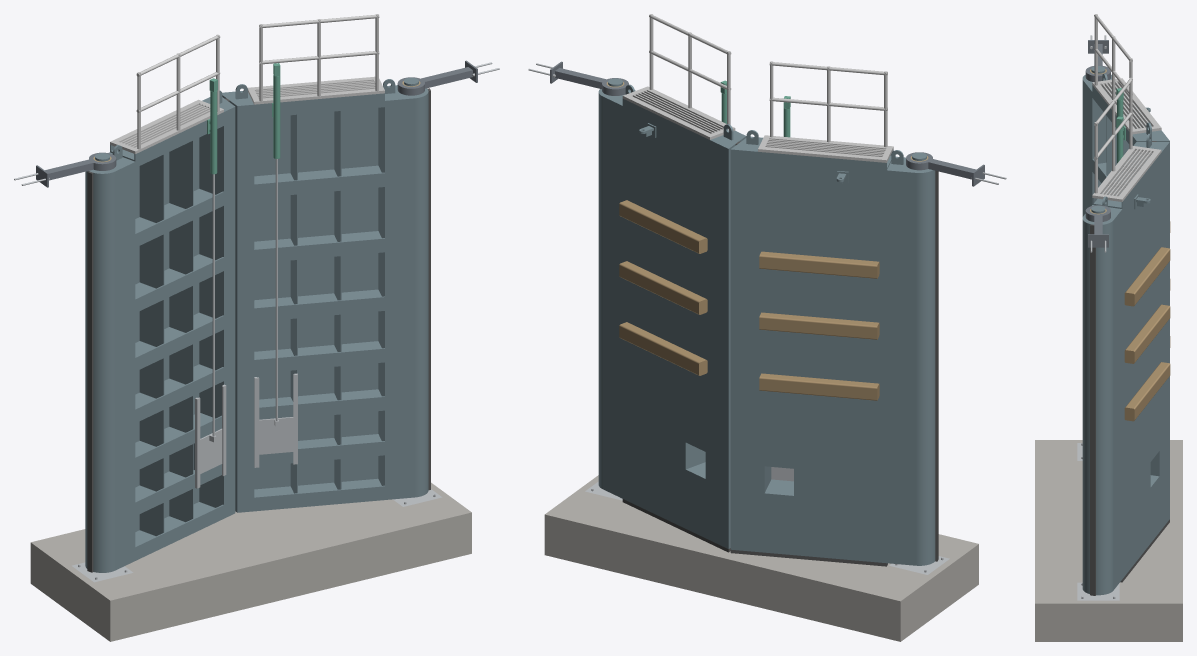
The model's file is step_04.glb.
3 renders of one model, left to right at view 1: azimuth 30°, elevation 25°; view 2: azimuth 150°, elevation 25°; view 3: azimuth 270°, elevation 25°, orthographic. The views are drawn at different scales.
Visible parts, largest first — view 1: part__cill, part__right skin plate, part__right heel post, part__left heel post, part__left mitre post, part__right mitre post, part__left stiffener 1, part__left stiffener 2, part__left skin plate, part__right girder 1, part__left heel seal, part__right girder 7 (+29 smaller); view 2: part__left skin plate, part__right skin plate, part__cill, part__left heel post, part__left mitre post, part__right heel post, part__right mitre post, part__left walkway grating, part__left oak fender 3, part__left oak fender 2, part__right walkway grating, part__left oak fender 1 (+8 smaller); view 3: part__cill, part__right heel post, part__right skin plate, part__right mitre post, part__left heel post, part__right heel seal, part__right walkway grating, part__left walkway grating, part__right handrail, part__right oak fender 3, part__right oak fender 1, part__right oak fender 2 (+10 smaller).
Boxes of the visible parts, x1,y1,x2,y2 form: part__cill: [30, 482, 471, 641]; part__right skin plate: [254, 107, 378, 489]; part__right heel post: [378, 77, 428, 499]; part__left heel post: [85, 152, 135, 572]; part__left mitre post: [199, 97, 235, 518]; part__right mitre post: [222, 91, 254, 512]; part__left stiffener 1: [139, 154, 164, 536]; part__left stiffener 2: [169, 140, 193, 522]; part__left skin plate: [110, 138, 199, 531]; part__right girder 1: [254, 478, 384, 511]; part__left heel seal: [87, 171, 93, 572]; part__right girder 7: [254, 165, 384, 198]; part__left skin plate: [758, 152, 886, 563]; part__right skin plate: [622, 99, 709, 539]; part__cill: [544, 475, 978, 641]; part__left heel post: [887, 152, 935, 565]; part__left mitre post: [730, 136, 762, 551]; part__right heel post: [598, 78, 635, 498]; part__right mitre post: [710, 130, 746, 548]; part__left walkway grating: [758, 135, 893, 162]; part__left oak fender 3: [759, 251, 879, 278]; part__left oak fender 2: [759, 312, 879, 339]; part__right walkway grating: [622, 86, 735, 139]; part__left oak fender 1: [759, 373, 879, 400]; part__cill: [1035, 440, 1182, 641]; part__right heel post: [1082, 205, 1122, 595]; part__right skin plate: [1121, 153, 1161, 578]; part__right mitre post: [1133, 142, 1169, 528]; part__left heel post: [1082, 66, 1119, 216]; part__right heel seal: [1090, 224, 1095, 595]; part__right walkway grating: [1092, 146, 1161, 201]; part__left walkway grating: [1092, 78, 1161, 134]; part__right handrail: [1094, 77, 1132, 193]; part__right oak fender 3: [1124, 247, 1170, 306]; part__right oak fender 1: [1124, 362, 1170, 421]; part__right oak fender 2: [1124, 304, 1170, 363].
Bounding box in the file's own units: 7258 × 7700 × 2100.
